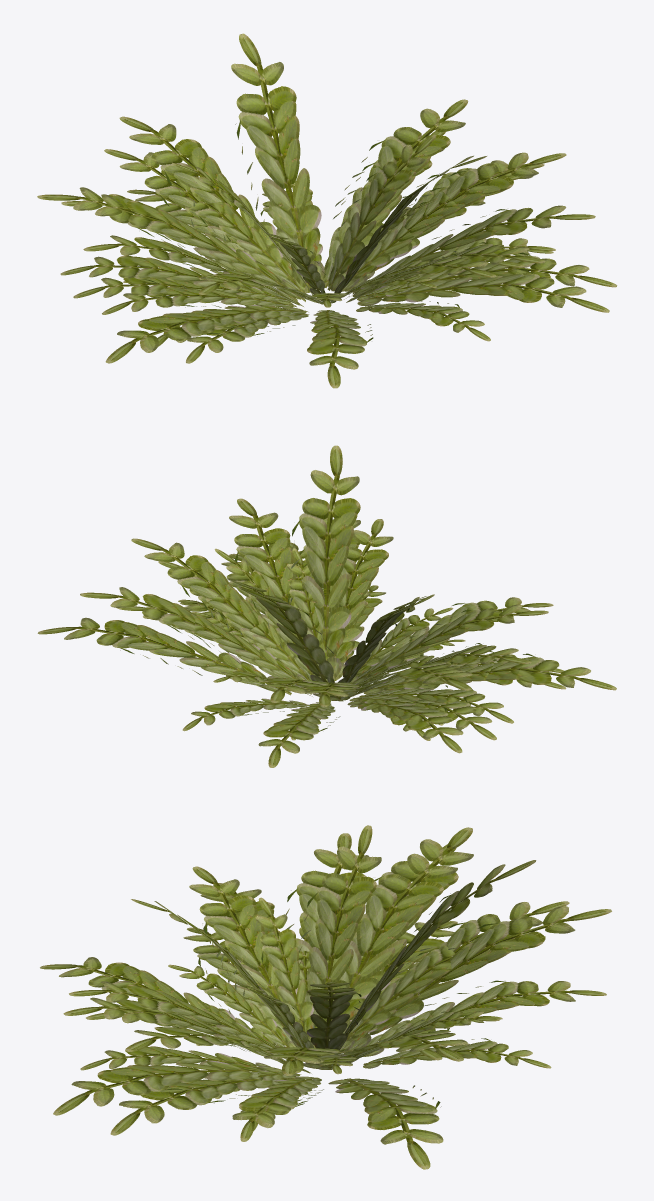
File: mv_PlantA.fbx
The picture shows the model from 3 angles, top to bottom: view 1: azimuth 30°, elevation 25°; view 2: azimuth 150°, elevation 25°; view 3: azimuth 270°, elevation 25°; orthographic projection. The views are drawn at different scales.
Parts seen in each view (by area): view 1: PlantA_LOD0; view 2: PlantA_LOD0; view 3: PlantA_LOD0.
Part boxes in pixels (x1=…): PlantA_LOD0: x1=37, y1=33, x2=617, y2=388; PlantA_LOD0: x1=37, y1=445, x2=616, y2=767; PlantA_LOD0: x1=40, y1=825, x2=611, y2=1169.
Size of what is drawn, in the model's own units: 132 by 112 by 43.65.
